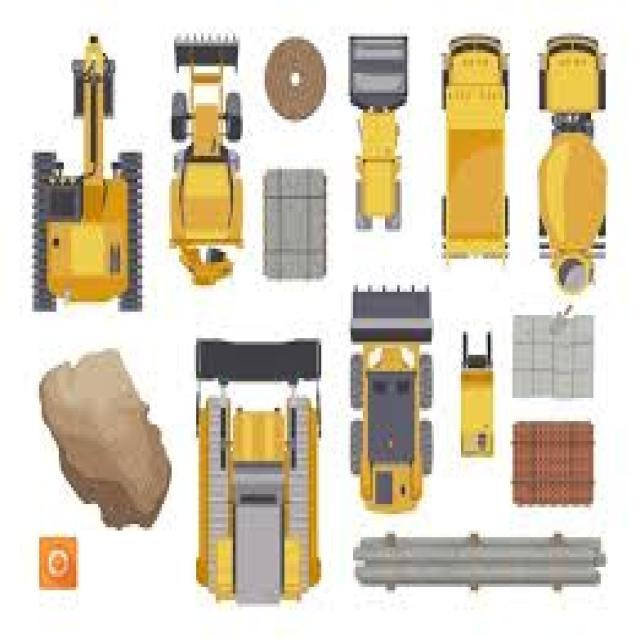truck: (442, 35, 510, 259)
